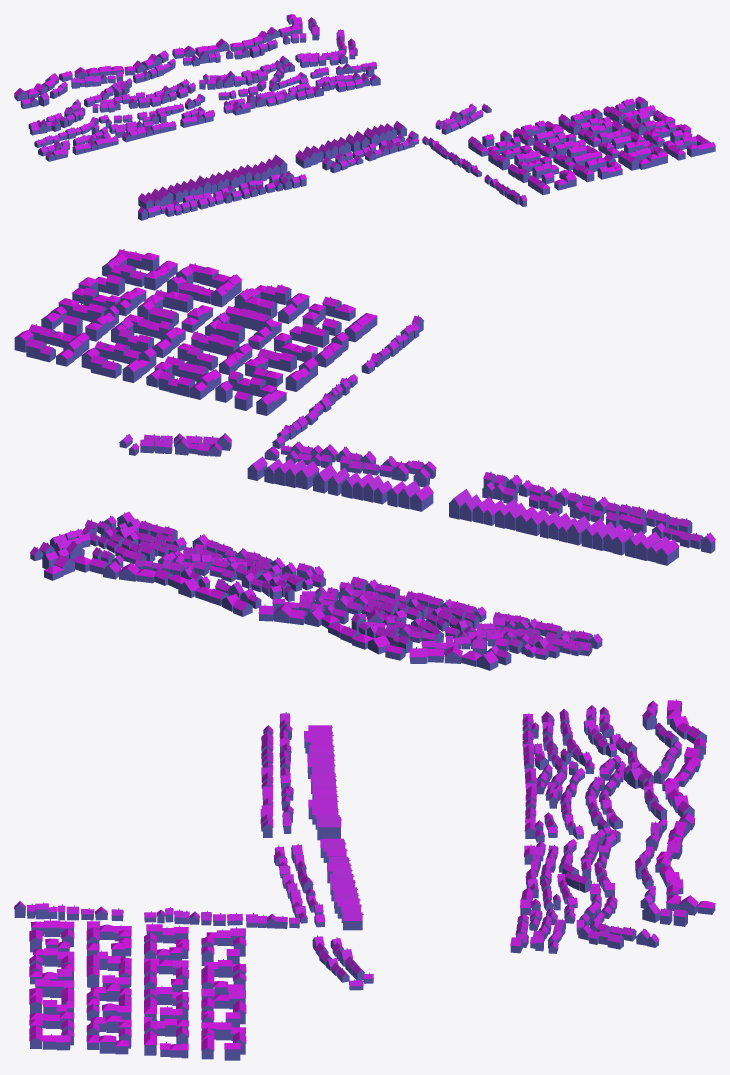
File: buildings_heart.fbx
3 views of the same model, one above another, from view 1: azimuth 30°, elevation 25°; view 2: azimuth 150°, elevation 25°; view 3: azimuth 270°, elevation 25° (orthographic). The views are drawn at different scales.
Parts seen in each view (by area): view 1: buildings_heart; view 2: buildings_heart; view 3: buildings_heart.
Part boxes in pixels (left/top/right/bottom): buildings_heart: left=14, top=14, right=715, bottom=220; buildings_heart: left=14, top=249, right=715, bottom=670; buildings_heart: left=14, top=699, right=715, bottom=1060.
Bounding box in the file's own units: 750 × 41.61 × 638.
